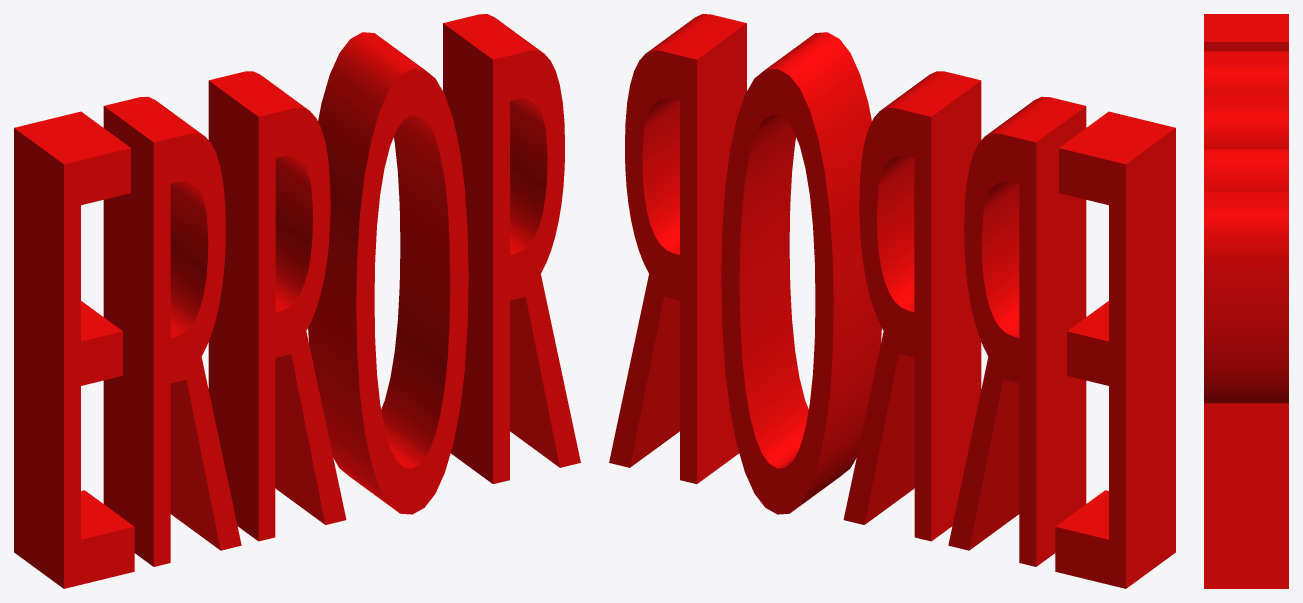
Rendered from error_text.obj.
3 renders of one model, left to right at view 1: azimuth 30°, elevation 25°; view 2: azimuth 150°, elevation 25°; view 3: azimuth 270°, elevation 25°, orthographic. The views are drawn at different scales.
Visible parts, largest first — view 1: typeMesh1_typeBlinn_0_typeMesh1_typeBlinn_0.001; view 2: typeMesh1_typeBlinn_0_typeMesh1_typeBlinn_0.001; view 3: typeMesh1_typeBlinn_0_typeMesh1_typeBlinn_0.001.
Boxes of the visible parts, x1,y1,x2,y2 form: typeMesh1_typeBlinn_0_typeMesh1_typeBlinn_0.001: [14, 14, 580, 588]; typeMesh1_typeBlinn_0_typeMesh1_typeBlinn_0.001: [609, 14, 1175, 588]; typeMesh1_typeBlinn_0_typeMesh1_typeBlinn_0.001: [1204, 14, 1288, 588].
Bounding box in the file's own units: 1 × 0.824 × 0.1674.
